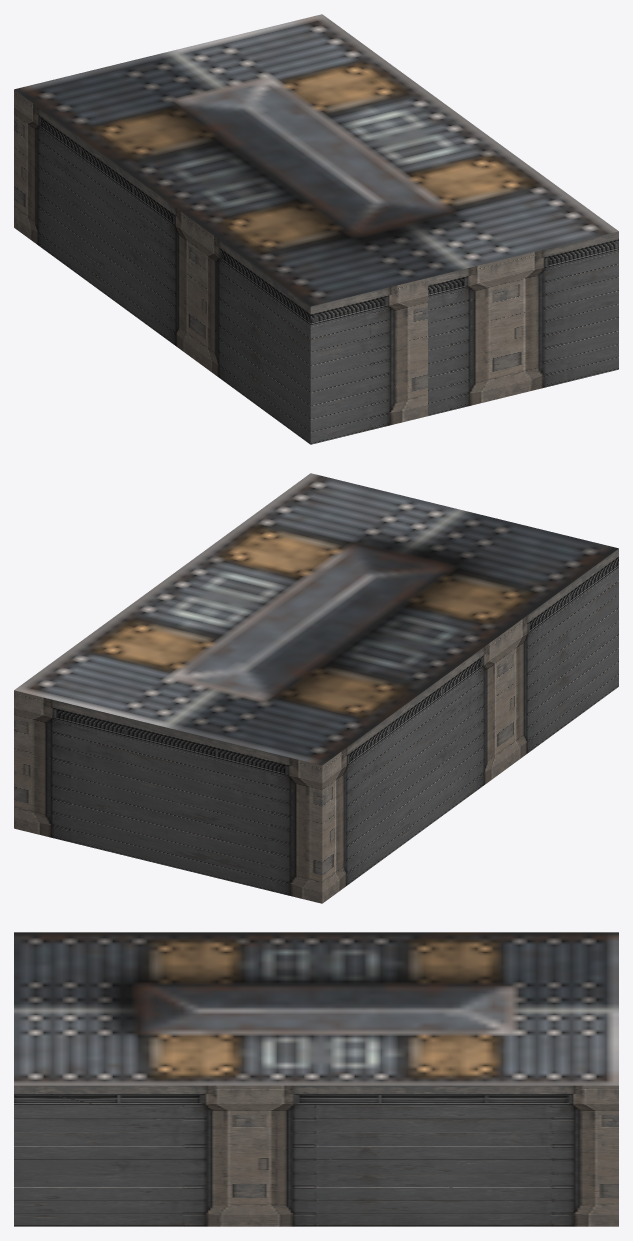
The model's file is hangar_hard_a_08.glb.
3 views of the same model, one above another, from view 1: azimuth 30°, elevation 25°; view 2: azimuth 150°, elevation 25°; view 3: azimuth 270°, elevation 25° (orthographic).
Parts seen in each view (by area): view 1: buildings/saxarba/hangar_hard/hangar_hard_a_08; view 2: buildings/saxarba/hangar_hard/hangar_hard_a_08; view 3: buildings/saxarba/hangar_hard/hangar_hard_a_08.
Part boxes in pixels (<box>): buildings/saxarba/hangar_hard/hangar_hard_a_08: <box>14,14,618,444</box>; buildings/saxarba/hangar_hard/hangar_hard_a_08: <box>14,473,618,903</box>; buildings/saxarba/hangar_hard/hangar_hard_a_08: <box>14,932,618,1226</box>.
Bounding box in the file's own units: 42 × 18 × 70.
